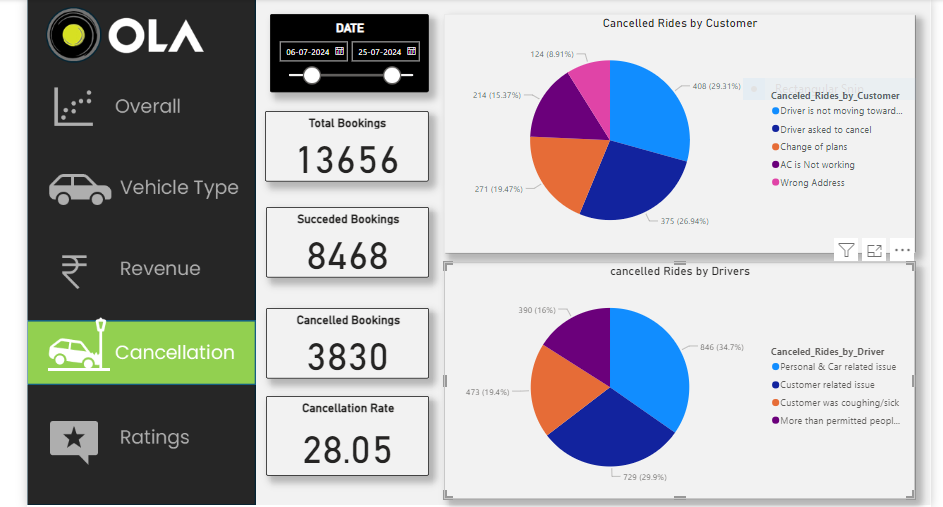

Layout of this report page (visuals, bound fields, positions):
{"tool":"powerbi","page":{"name":"Cancellation","canvas":[1280,720],"ordinal":3},"visuals":[{"type":"actionButton","box":[0,228.2,323.1,87.9],"z":0},{"type":"actionButton","box":[0,350.1,323.1,87.9],"z":1000},{"type":"actionButton","box":[4.3,588.2,318.9,87.9],"z":2000},{"type":"actionButton","box":[1.4,107.7,318.9,87.9],"z":3000},{"type":"pieChart","title":"Cancelled Rides by Customer","fields":{"Category":["July.Canceled_Rides_by_Customer"],"Y":["CountNonNull(July.Canceled_Rides_by_Driver)"]},"box":[591.4,21.4,667.1,338.6],"z":3001},{"type":"pieChart","title":"cancelled Rides by Drivers","fields":{"Category":["July.Canceled_Rides_by_Driver"],"Y":["CountNonNull(July.Canceled_Rides_by_Driver)"]},"box":[591.4,372.9,667.1,347.1],"z":3002},{"type":"slicer","title":"DATE","fields":{"Values":["July.Date"]},"box":[345,21,225,111],"z":3003},{"type":"card","title":"Total Bookings","fields":{"Values":["CountNonNull(July.Booking_ID)"]},"box":[338,159,232,100],"z":3004},{"type":"card","title":"Succeded Bookings","fields":{"Values":["CountNonNull(July.Booking_ID)"]},"box":[338.6,294.3,231.4,100],"z":3005},{"type":"card","title":"Cancelled Bookings","fields":{"Values":["CountNonNull(July.Booking_ID)"]},"box":[338.6,438.6,231.4,100],"z":3006},{"type":"card","title":"Cancellation Rate","fields":{"Values":["July.CanceledPercentage"]},"box":[338.6,562.9,231.4,112.9],"z":3007}]}

Visuals, with their boxes on the page's 1280x720 design canvas (x1, y1, x2, y2). These are canvas units, not pixel positions in the 943x507 screenshot, which may show the page scaled, cropped or inside an application window:
actionButton: (0,228,323,316)
actionButton: (0,350,323,438)
actionButton: (4,588,323,676)
actionButton: (1,108,320,196)
"Cancelled Rides by Customer" pieChart: (591,21,1258,360)
"cancelled Rides by Drivers" pieChart: (591,373,1258,720)
"DATE" slicer: (345,21,570,132)
"Total Bookings" card: (338,159,570,259)
"Succeded Bookings" card: (339,294,570,394)
"Cancelled Bookings" card: (339,439,570,539)
"Cancellation Rate" card: (339,563,570,676)
